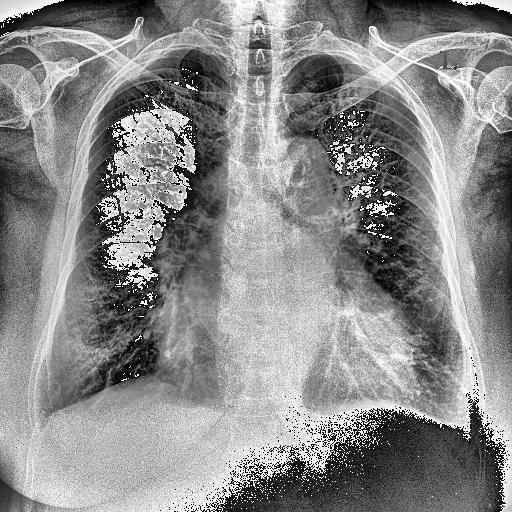0- Aortic enlargement: (148, 132, 368, 258)
13- Pulmonary fibrosis: (99, 130, 139, 241)
3- Cardiomegaly: (154, 222, 430, 420), (146, 217, 424, 405), (158, 266, 414, 412)
5- ILD: (284, 26, 489, 444), (28, 41, 234, 424), (282, 47, 480, 443), (33, 41, 226, 435)
